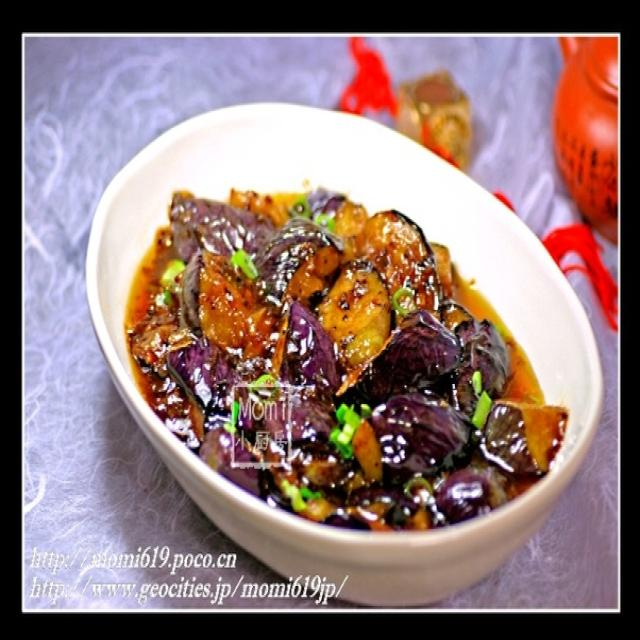鸡蛋料理: (101, 125, 563, 541)
